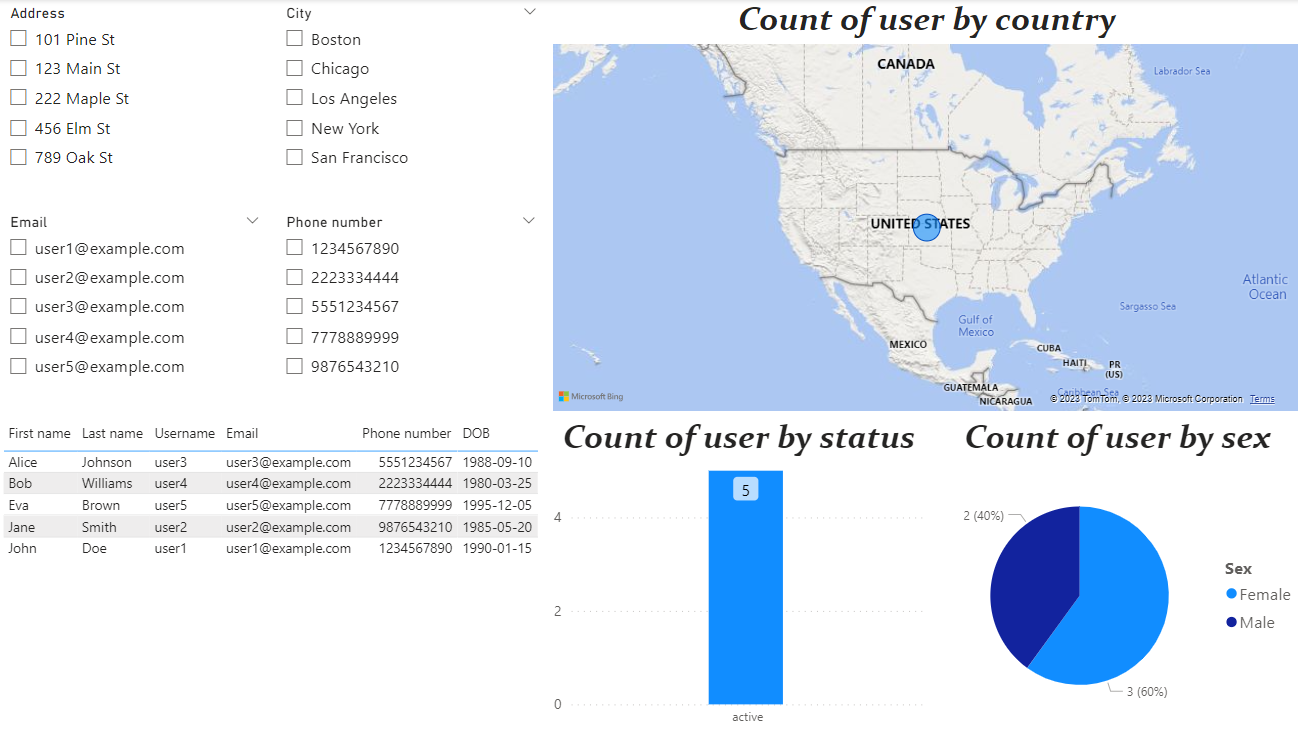

What the dashboard file says about the page in this screenshot:
{"tool":"powerbi","page":{"name":"User","canvas":[1280,720],"ordinal":0},"visuals":[{"type":"map","title":"Count of user by country","fields":{"Category":["public user.country"],"Size":["CountNonNull(public user.id)"]},"box":[539.1,0,740.8,408.3],"z":0},{"type":"pieChart","title":"Count of user by sex","fields":{"Category":["public user.sex"],"Y":["CountNonNull(public user.id)"]},"box":[911.9,408.3,367.9,311.7],"z":1000},{"type":"lineStackedColumnComboChart","title":"Count of user by status","fields":{"Category":["public user.status"],"Y":["CountNonNull(public user.id)"]},"box":[539.1,408.3,372.8,311.7],"z":2000},{"type":"tableEx","fields":{"Values":["public user.first_name","public user.last_name","public user.username","public user.email","public user.phone_number","public user.date_of_birth"]},"box":[0,408.3,539.1,311.7],"z":3000},{"type":"slicer","fields":{"Values":["public user.address"]},"box":[0,0,270.2,204.1],"z":3001},{"type":"slicer","fields":{"Values":["public user.email"]},"box":[0,204.1,268.9,204.1],"z":3002},{"type":"slicer","fields":{"Values":["public user.phone_number"]},"box":[270,204,269,204],"z":3003},{"type":"slicer","fields":{"Values":["public user.city"]},"box":[270.2,0,270.2,204.1],"z":3004}]}

Visuals, with their boxes on the page's 1280x720 design canvas (x1, y1, x2, y2). These are canvas units, not pixel positions in the 1298x732 screenshot, which may show the page scaled, cropped or inside an application window:
"Count of user by country" map: (left=539, top=0, right=1280, bottom=408)
"Count of user by sex" pieChart: (left=912, top=408, right=1280, bottom=720)
"Count of user by status" lineStackedColumnComboChart: (left=539, top=408, right=912, bottom=720)
tableEx - public user.first_name x public user.last_name: (left=0, top=408, right=539, bottom=720)
slicer - public user.address: (left=0, top=0, right=270, bottom=204)
slicer - public user.email: (left=0, top=204, right=269, bottom=408)
slicer - public user.phone_number: (left=270, top=204, right=539, bottom=408)
slicer - public user.city: (left=270, top=0, right=540, bottom=204)
